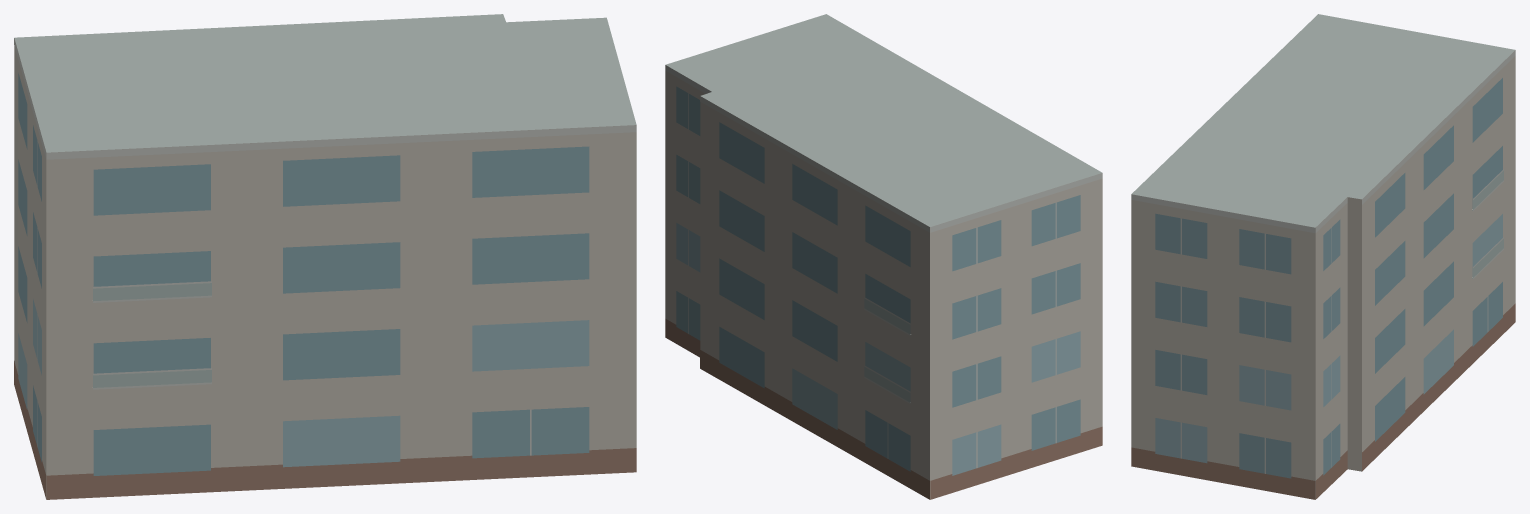
File: survey-upis-32572605.glb
3 views of the same model, side by side, from view 1: azimuth 30°, elevation 25°; view 2: azimuth 150°, elevation 25°; view 3: azimuth 270°, elevation 25° (orthographic). The views are drawn at different scales.
Parts seen in each view (by area): view 1: survey-upis-32572605.tmp; view 2: survey-upis-32572605.tmp; view 3: survey-upis-32572605.tmp.
Part boxes in pixels (x1,y1,x2,y2): survey-upis-32572605.tmp: (14, 14, 636, 499); survey-upis-32572605.tmp: (665, 14, 1102, 499); survey-upis-32572605.tmp: (1131, 14, 1515, 499).
Size of the model in its own units: 19.88 by 11.8 by 15.11.
